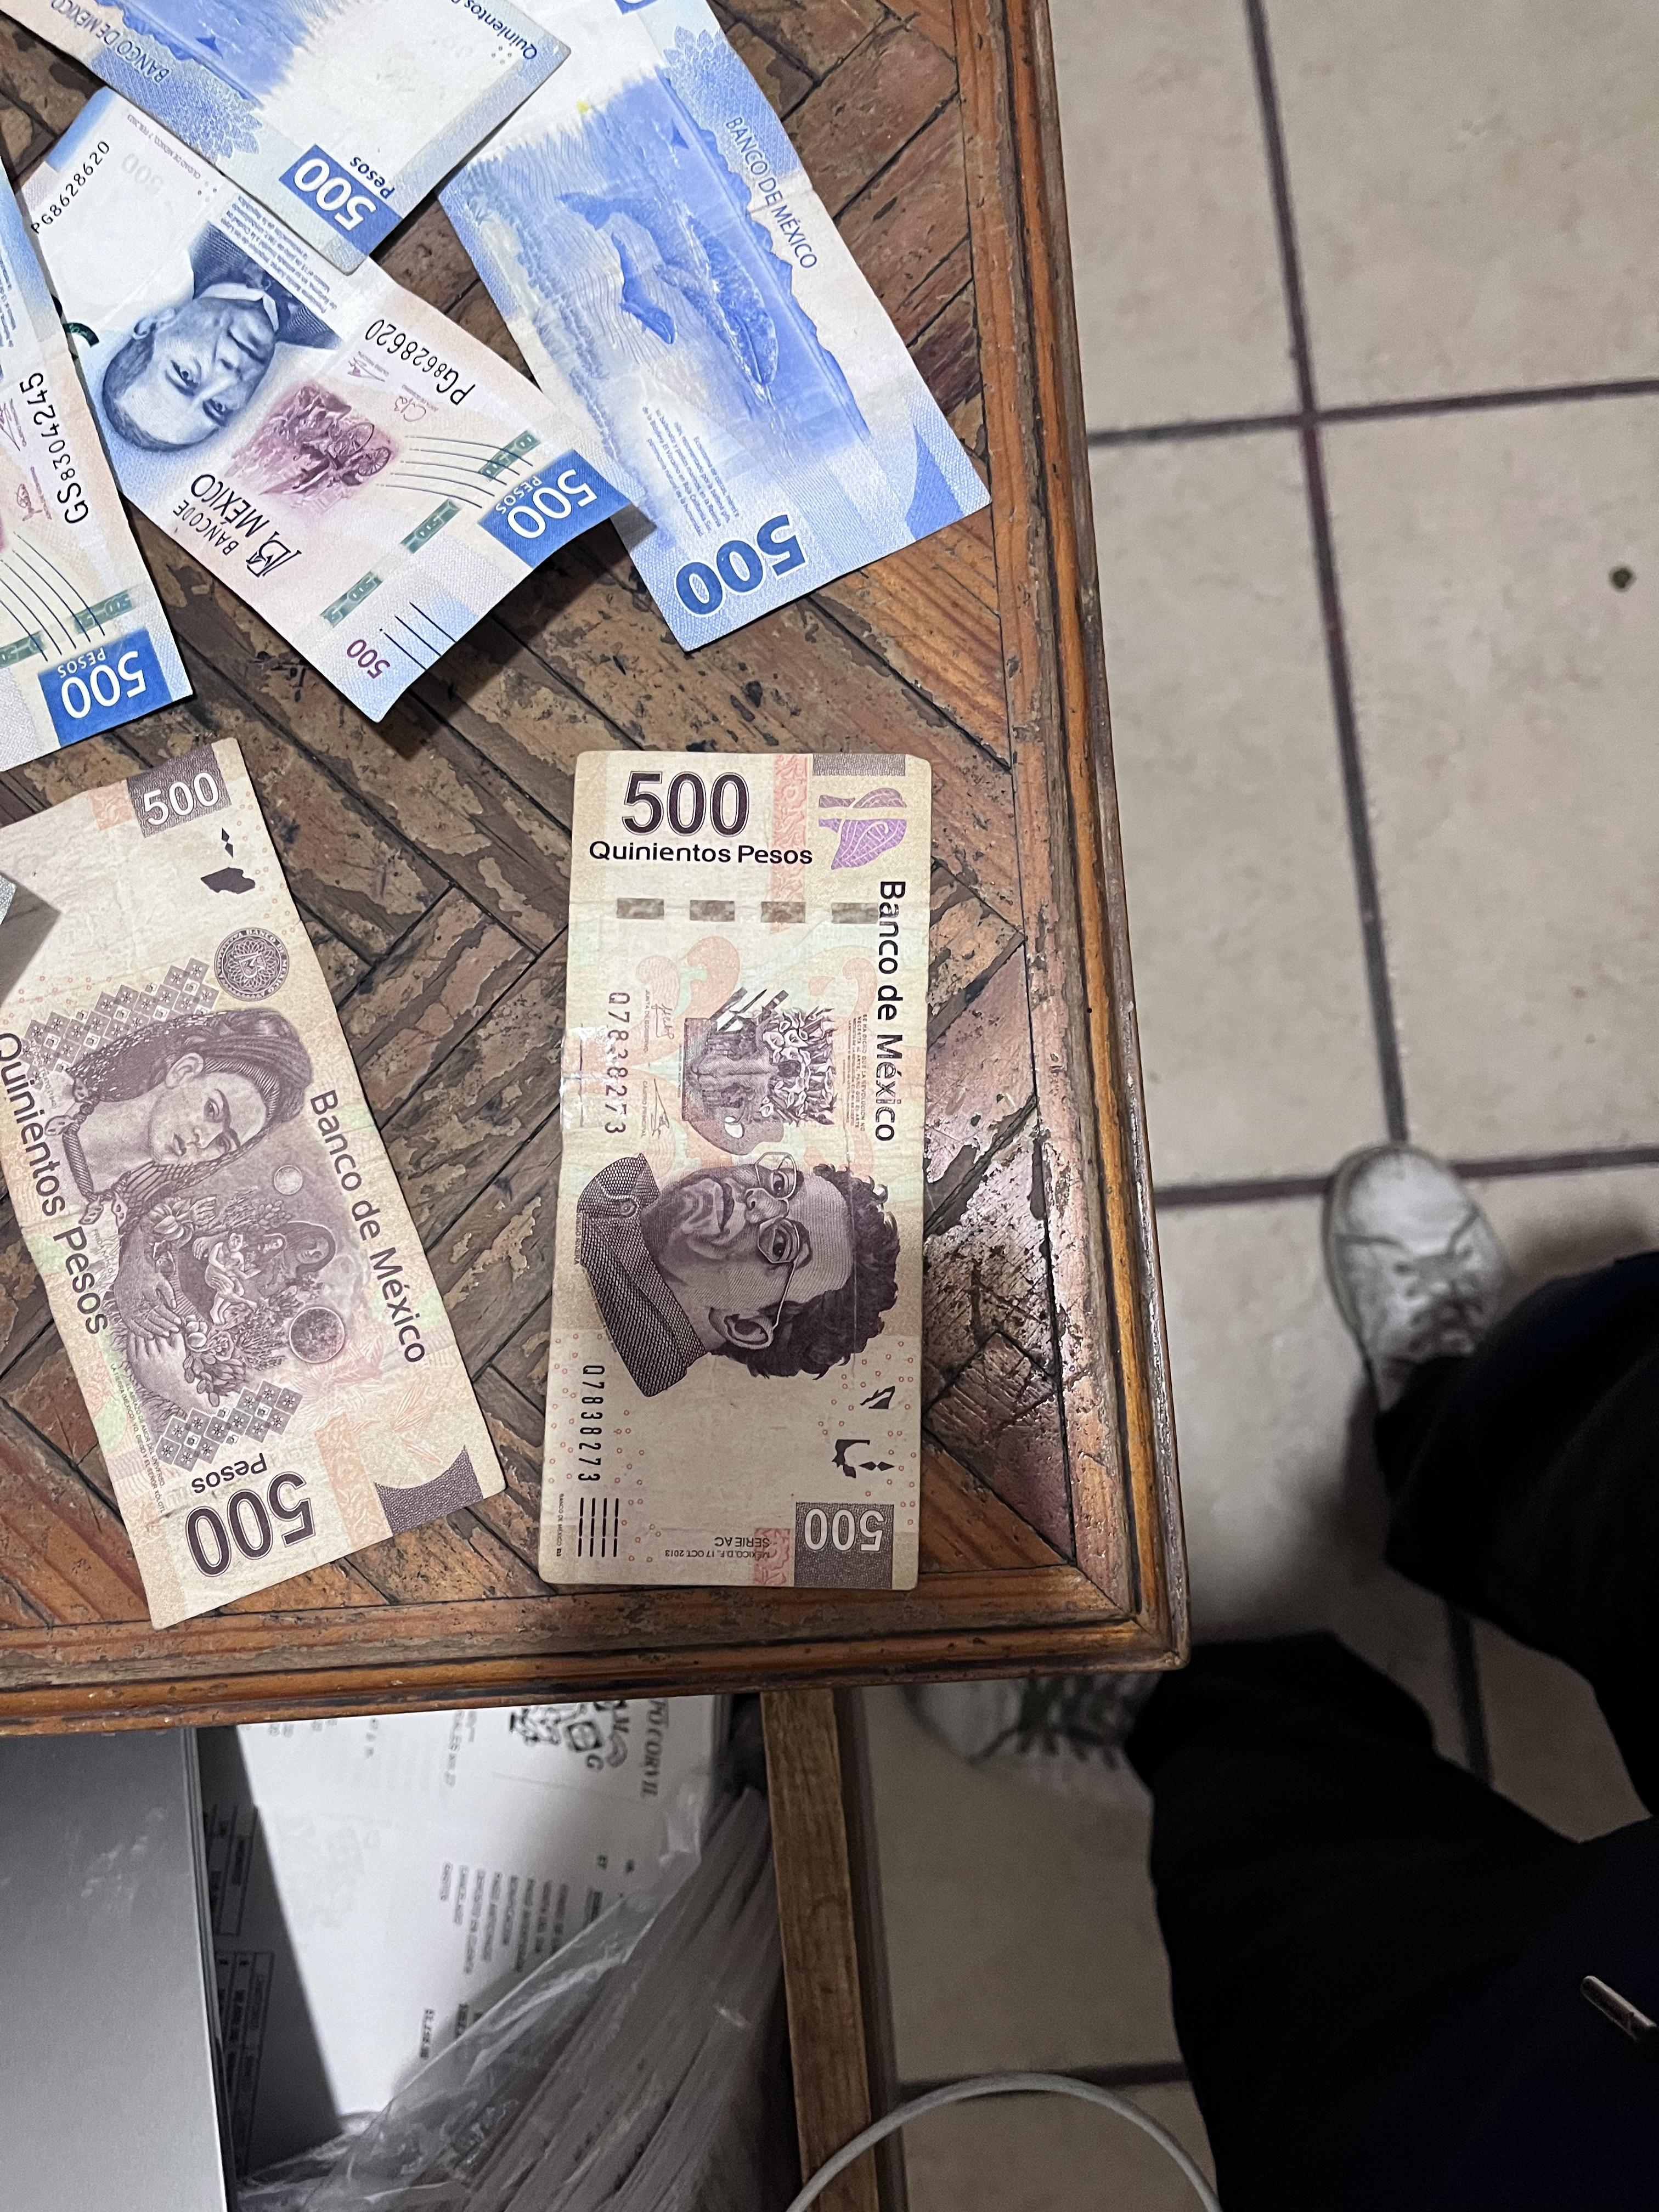500: (0, 739, 535, 1632), (540, 730, 977, 1606)
500 nuevo: (0, 88, 664, 730), (441, 0, 1018, 680), (0, 0, 568, 266), (0, 160, 233, 785)
